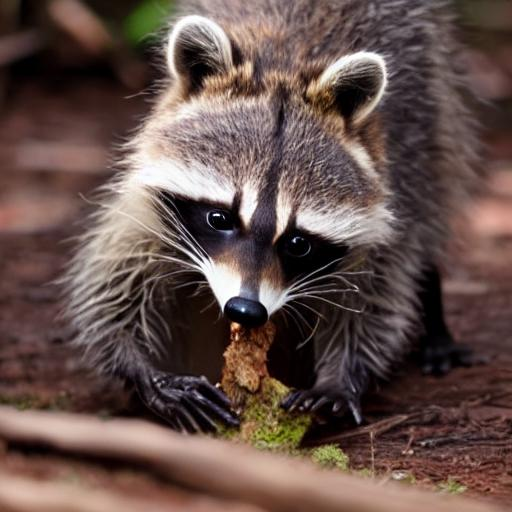raccoon: (43, 0, 498, 430)
